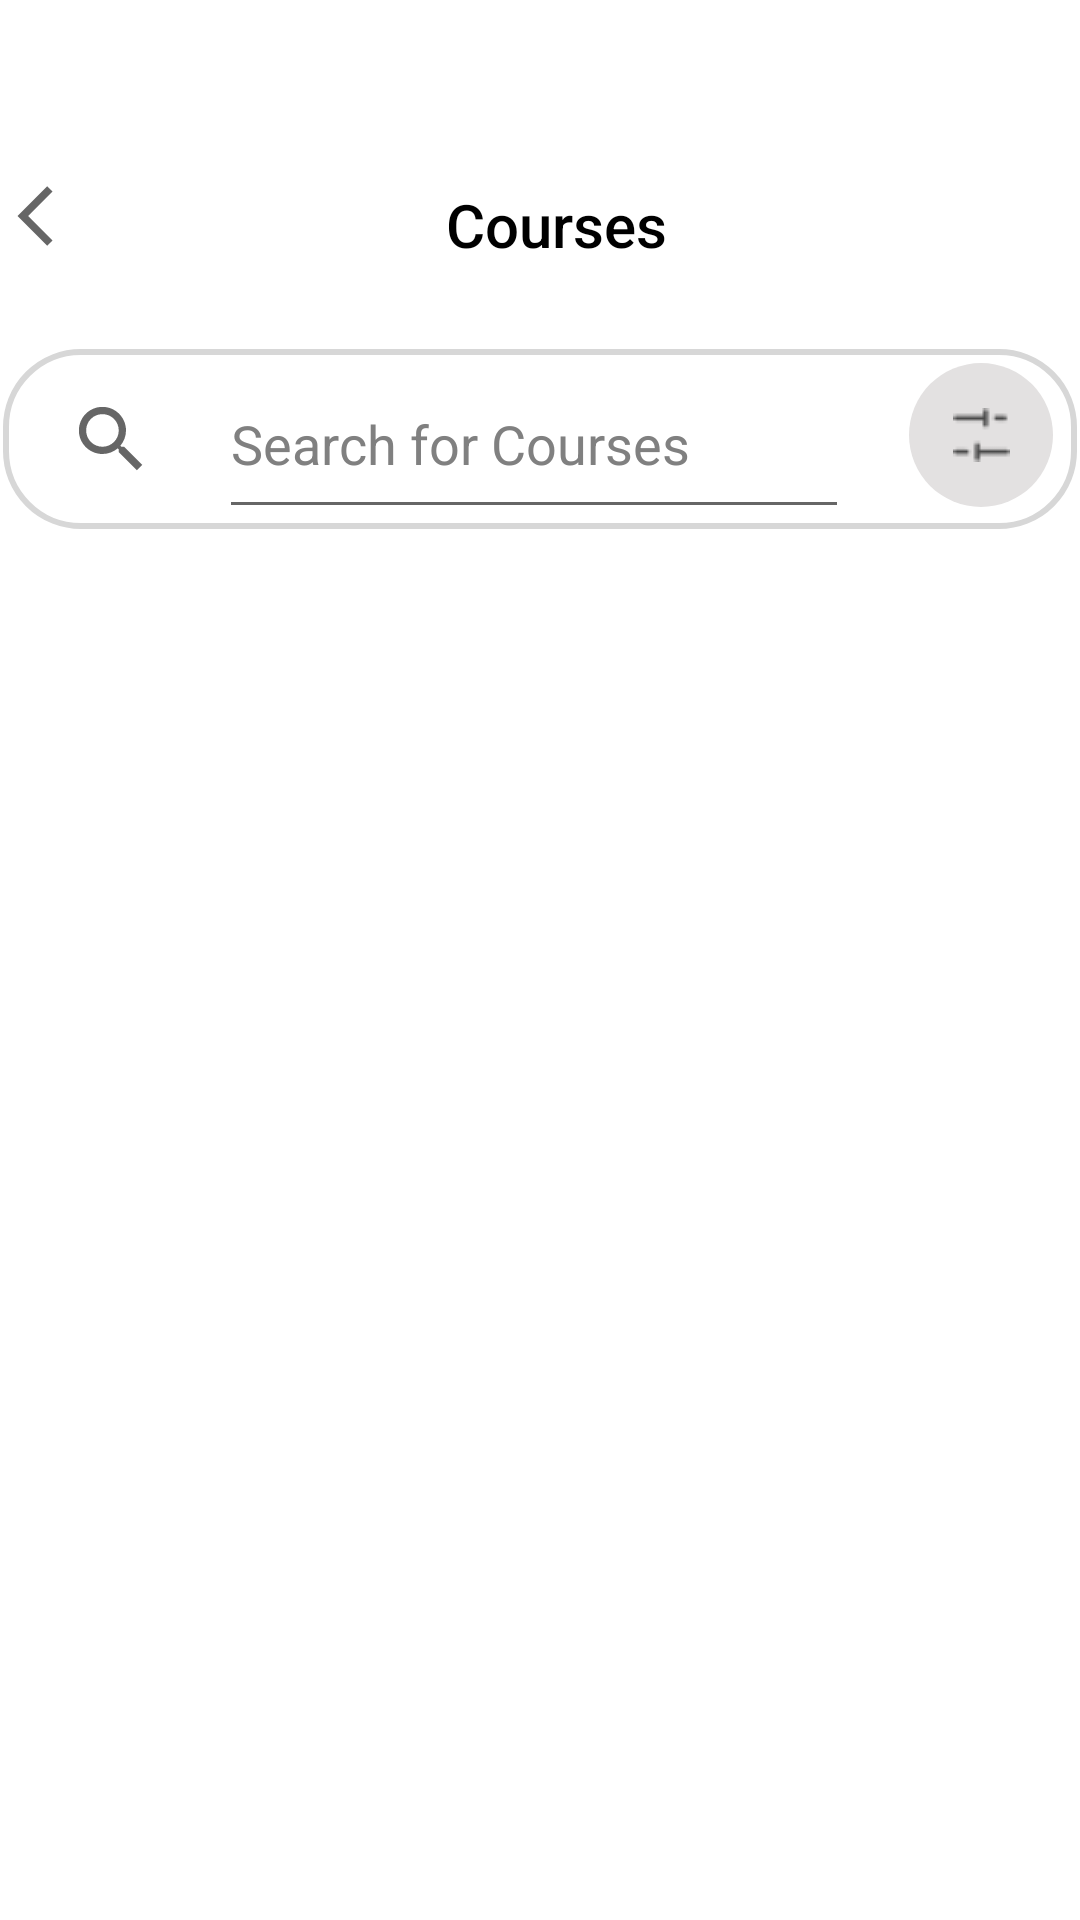

Where to tap for icons on this 1080 x 1920 app screen, as (x,y):
arrow back: (35,216)
filtericon: (981,435)
